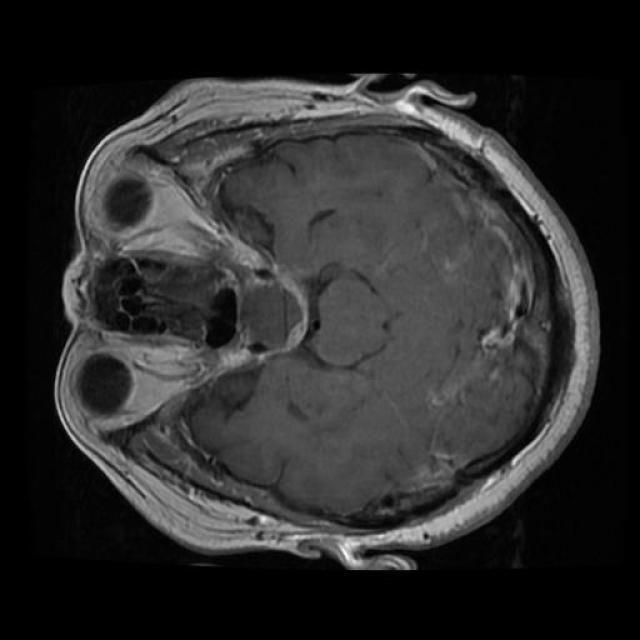Pituitary: (234, 266, 309, 359)
